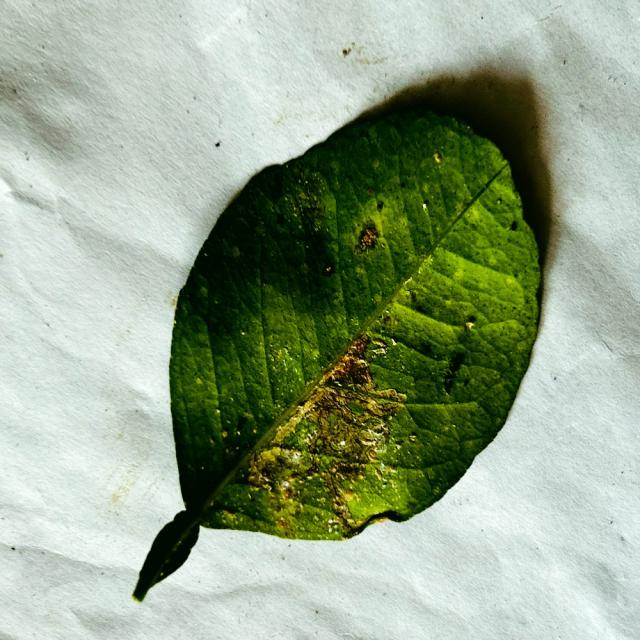Bacterial_Blight: (294, 171, 338, 277), (255, 399, 318, 466), (319, 383, 405, 421), (321, 464, 370, 530), (249, 441, 315, 490), (321, 337, 376, 389), (322, 417, 379, 462), (321, 391, 367, 431), (344, 508, 400, 537), (327, 459, 370, 485), (245, 462, 274, 490), (317, 410, 343, 440), (371, 338, 388, 350)
Lemon: (130, 105, 545, 603)
